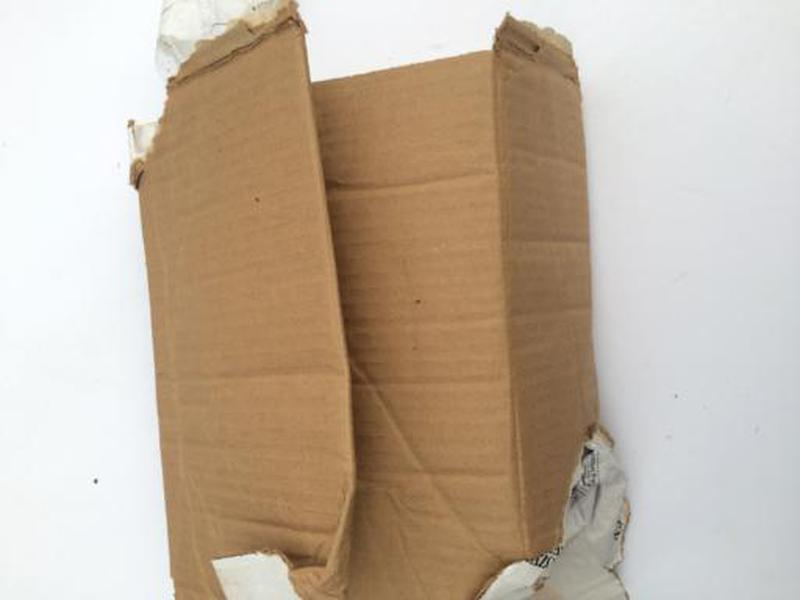cardboard: (109, 1, 652, 600)
